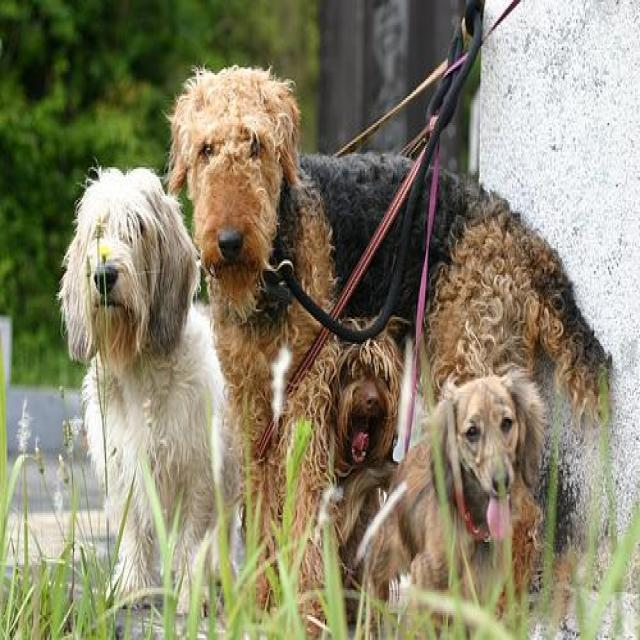airedale: (162, 59, 614, 620)
